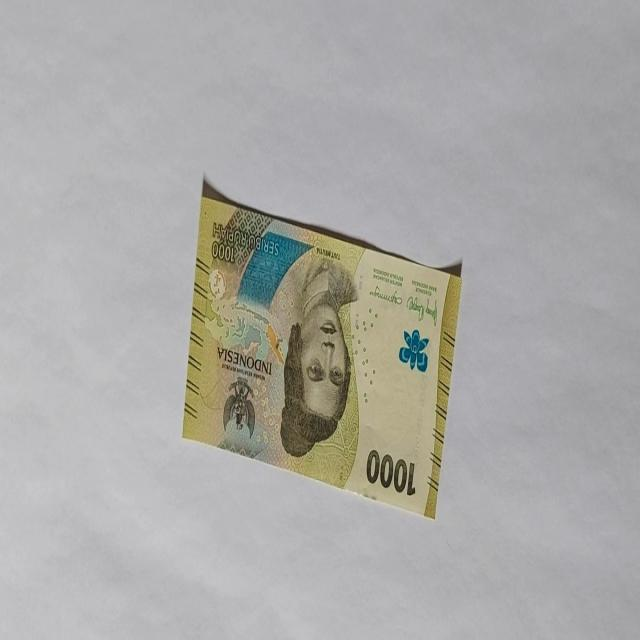seribu rupiah kertas: (181, 183, 463, 521)
